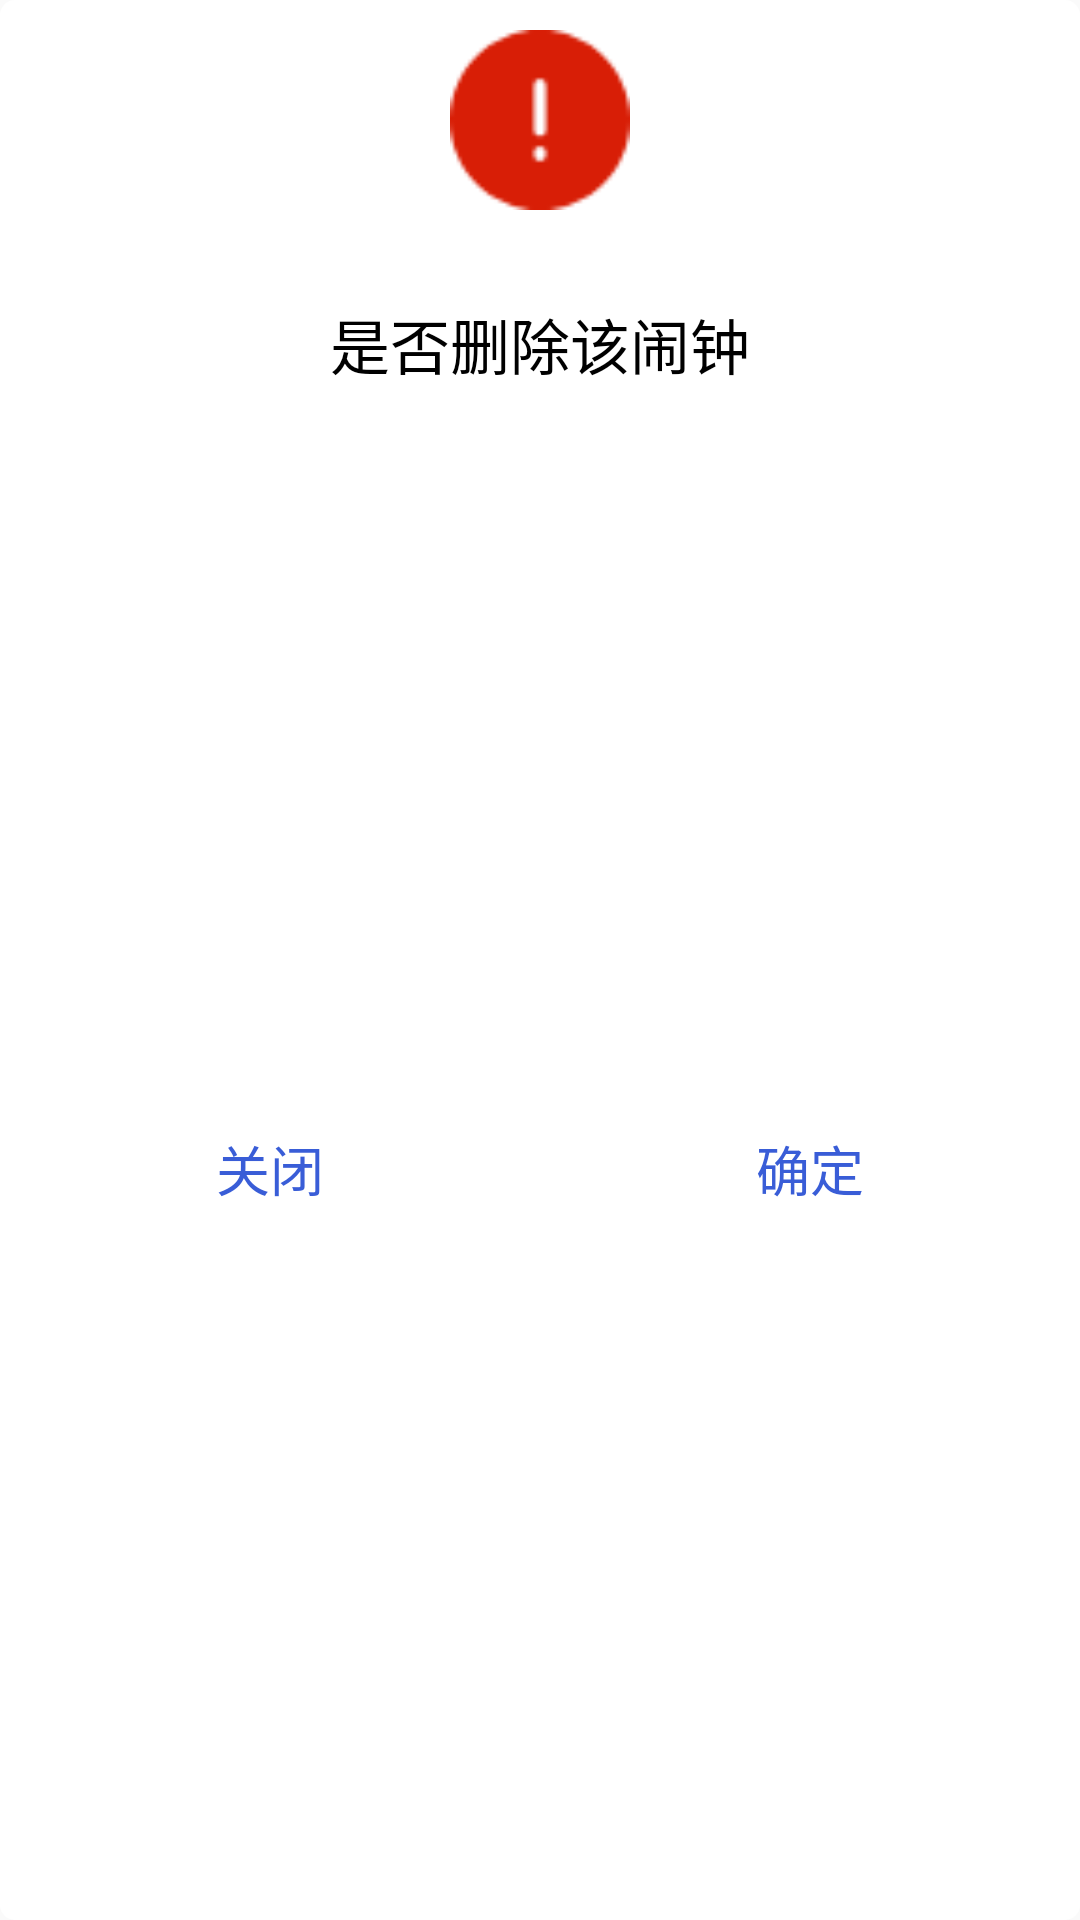

Named icons in this screenshot (1080 × 1920) and their bounding boxes, box=[x1, y1, x2, y2]:
de clock alert: box=[450, 30, 630, 210]
